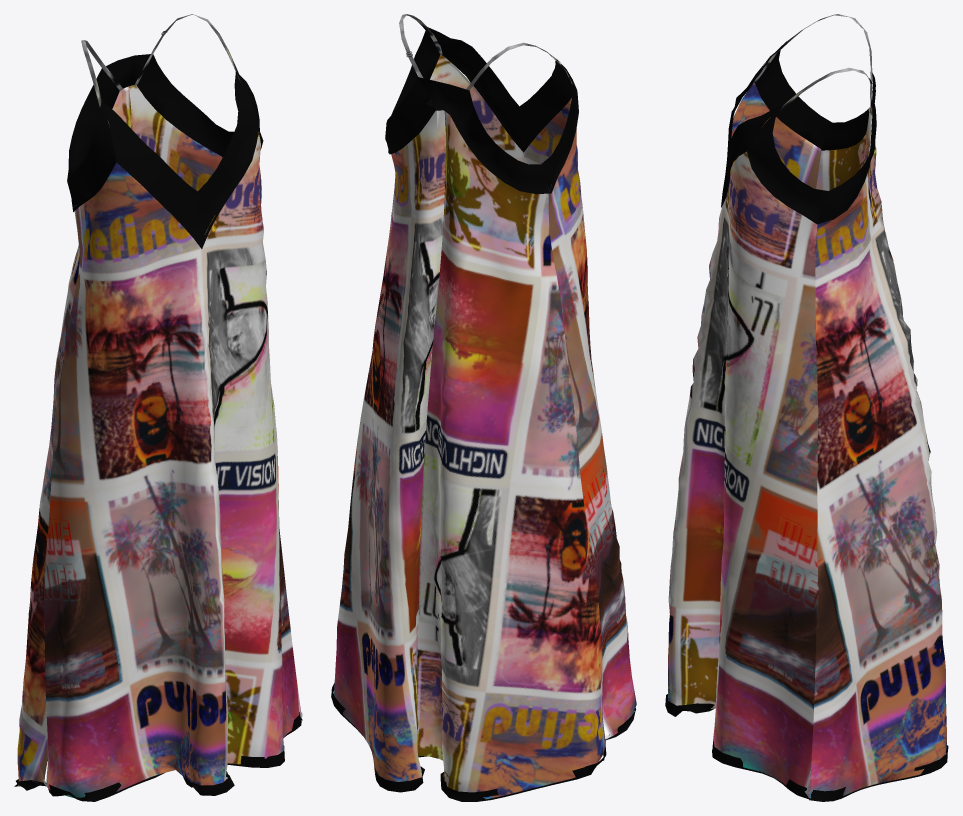
Rendered from resortslipdresslowpoly.fbx.
The picture shows the model from 3 angles, left to right: view 1: azimuth 30°, elevation 25°; view 2: azimuth 150°, elevation 25°; view 3: azimuth 270°, elevation 25°; orthographic projection. The views are drawn at different scales.
Visible parts, largest first — view 1: 凯信-RESORT SLIP DRESS_后片_4; view 2: 凯信-RESORT SLIP DRESS_后片_4; view 3: 凯信-RESORT SLIP DRESS_后片_4.
Part boxes in pixels (x1,y1,x2,y2): 凯信-RESORT SLIP DRESS_后片_4: [14, 14, 302, 801]; 凯信-RESORT SLIP DRESS_后片_4: [331, 14, 636, 801]; 凯信-RESORT SLIP DRESS_后片_4: [665, 14, 948, 801].
Size of the model in its own units: 50.87 by 129 by 46.12.
Materials: 37 (37 with a texture image).
